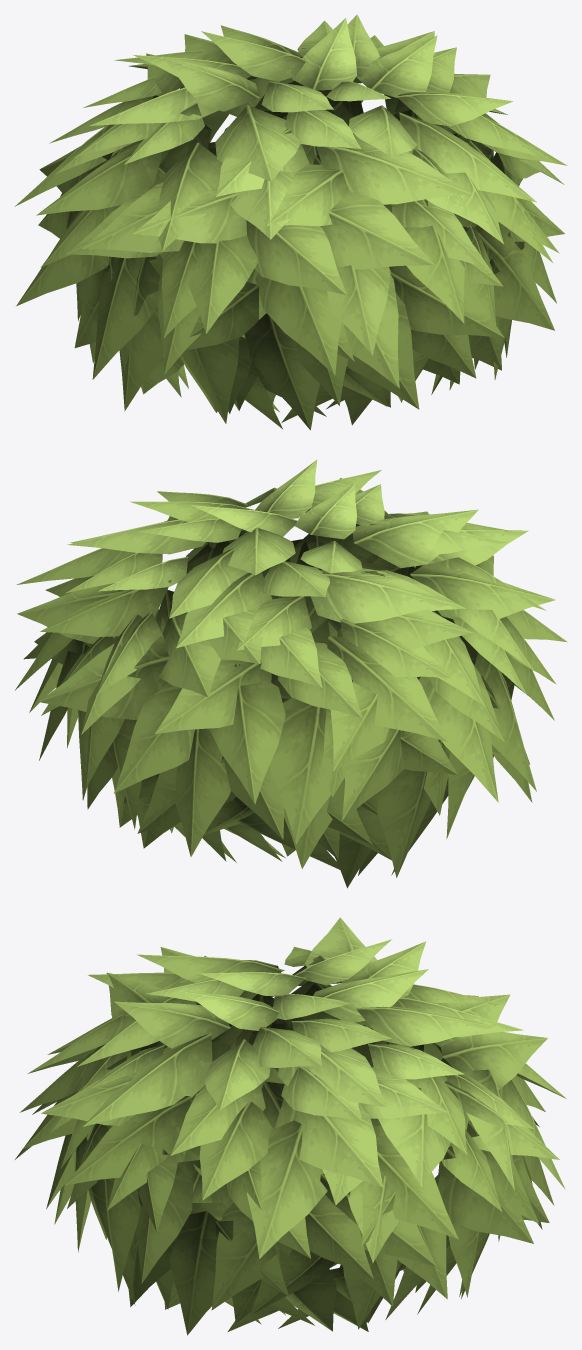
3 views of the same model, one above another, from view 1: azimuth 30°, elevation 25°; view 2: azimuth 150°, elevation 25°; view 3: azimuth 270°, elevation 25° (orthographic).
Visible parts, largest first — view 1: grid_4_leaves_LOD0; view 2: grid_4_leaves_LOD0; view 3: grid_4_leaves_LOD0.
Part boxes in pixels (x1,y1,x2,y2): grid_4_leaves_LOD0: [14, 14, 567, 430]; grid_4_leaves_LOD0: [15, 460, 567, 888]; grid_4_leaves_LOD0: [15, 917, 566, 1335].
Size of what is drawn, in the model's own units: 1.45 by 0.9835 by 1.43.
1 material, 1 textured.
